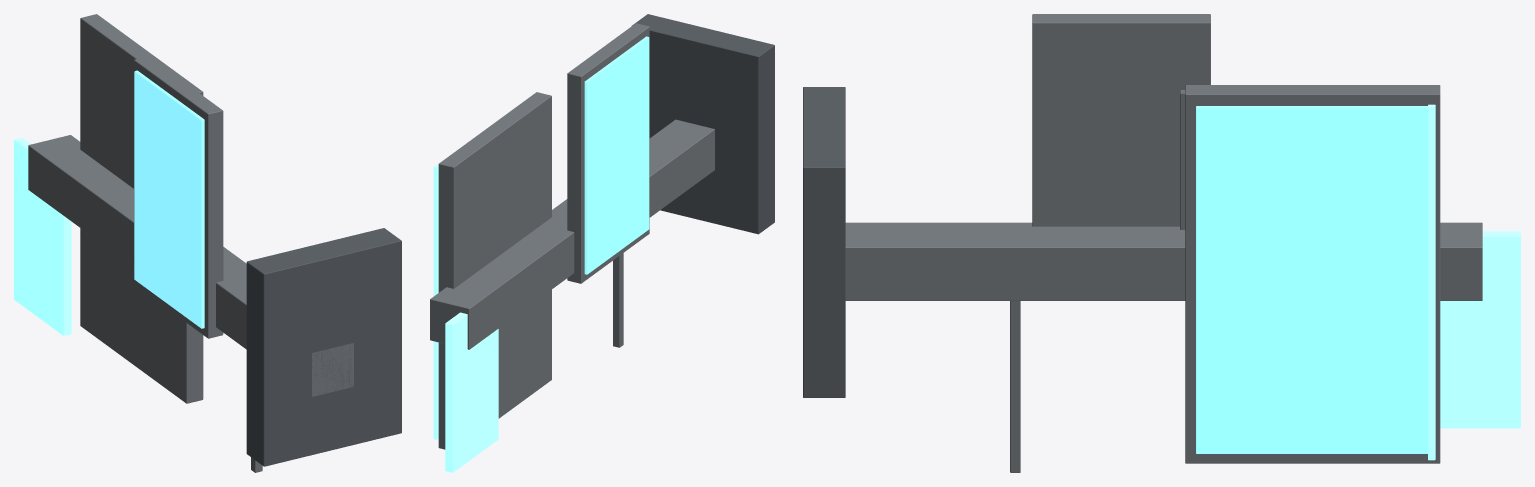
Rendered from mass_billboard_stack_yard_l.glb.
3 views of the same model, side by side, from view 1: azimuth 30°, elevation 25°; view 2: azimuth 150°, elevation 25°; view 3: azimuth 270°, elevation 25° (orthographic). The views are drawn at different scales.
Parts seen in each view (by area): view 1: FlightKit_MassBillboard_yard_L; view 2: FlightKit_MassBillboard_yard_L; view 3: FlightKit_MassBillboard_yard_L.
Boxes of the visible parts, left/top/right/bottom form: FlightKit_MassBillboard_yard_L: left=14, top=14, right=401, bottom=472; FlightKit_MassBillboard_yard_L: left=430, top=14, right=774, bottom=472; FlightKit_MassBillboard_yard_L: left=803, top=14, right=1520, bottom=472.
Size of the model in its own units: 4.5 by 11.25 by 16.9.
